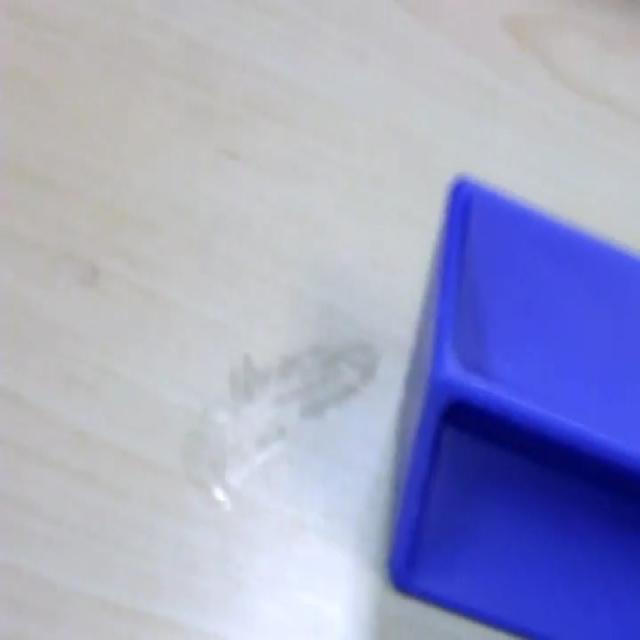blue_block: (386, 170, 640, 638)
